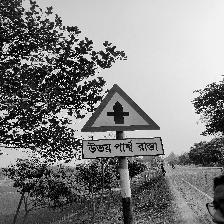Crossroad: (77, 82, 169, 163)
